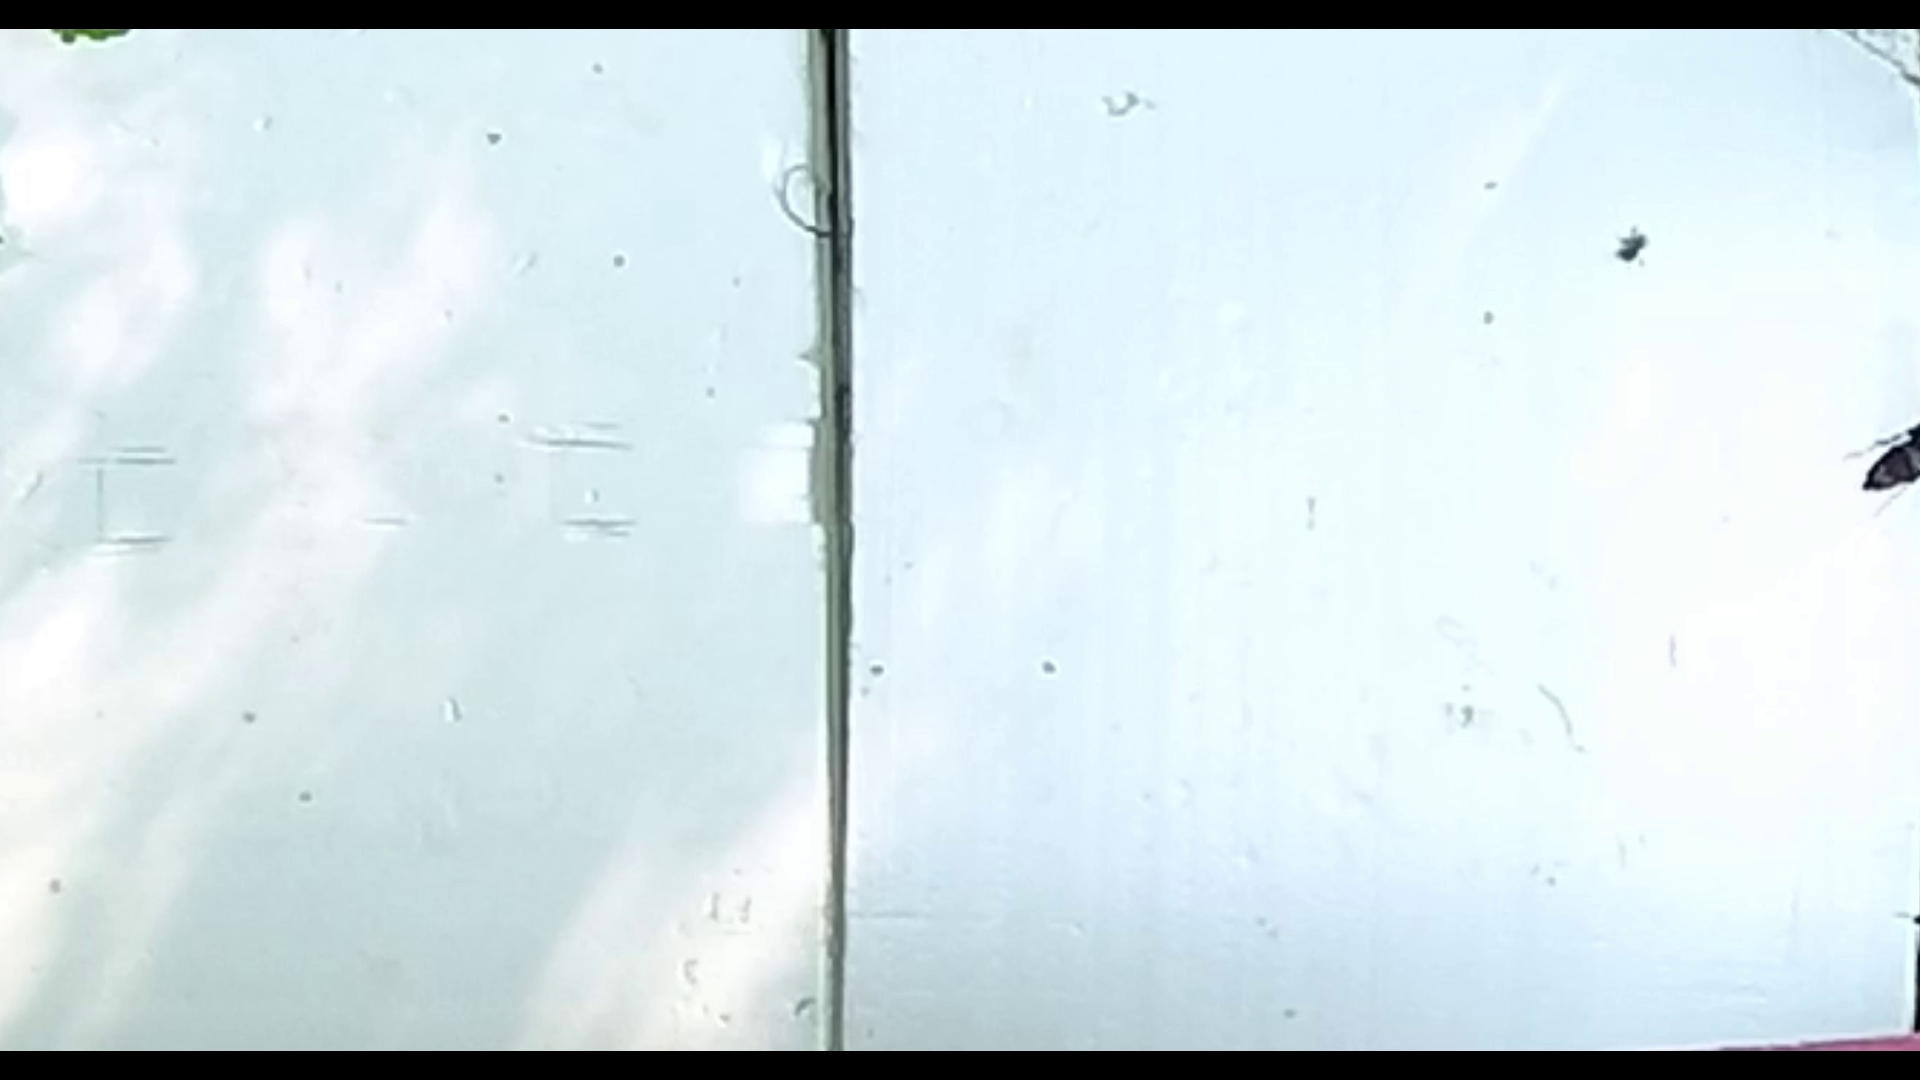Asian_hornets: (1834, 409, 1920, 521)
